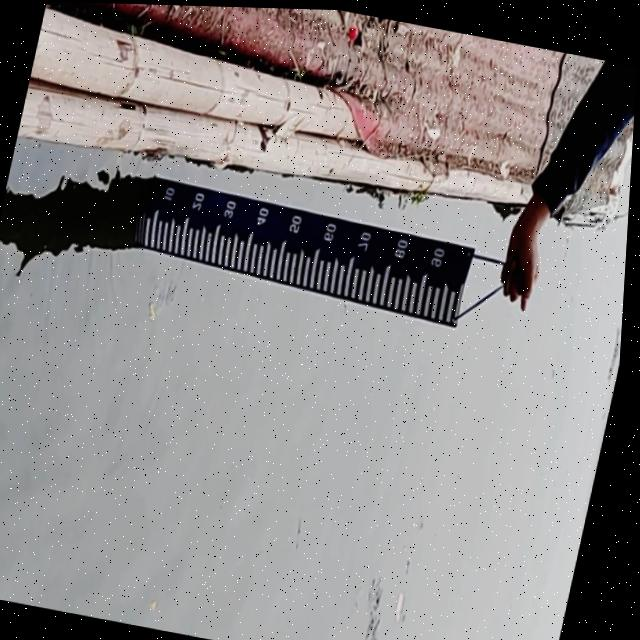water-meter: (95, 143, 492, 339)
